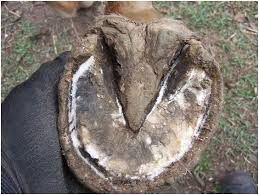horsesole: (58, 27, 224, 195)
